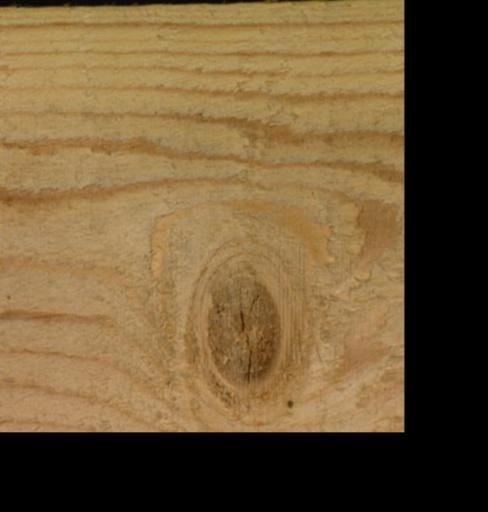small_knot: (282, 392, 298, 411)
sound_knot: (195, 267, 287, 391)
